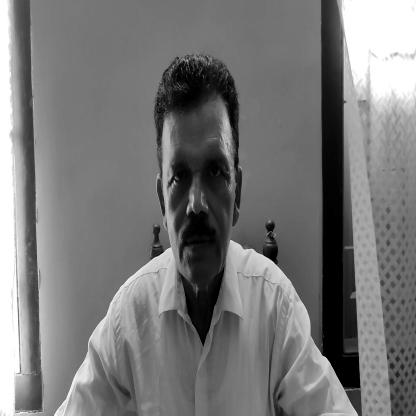Normal: (156, 62, 246, 289)
